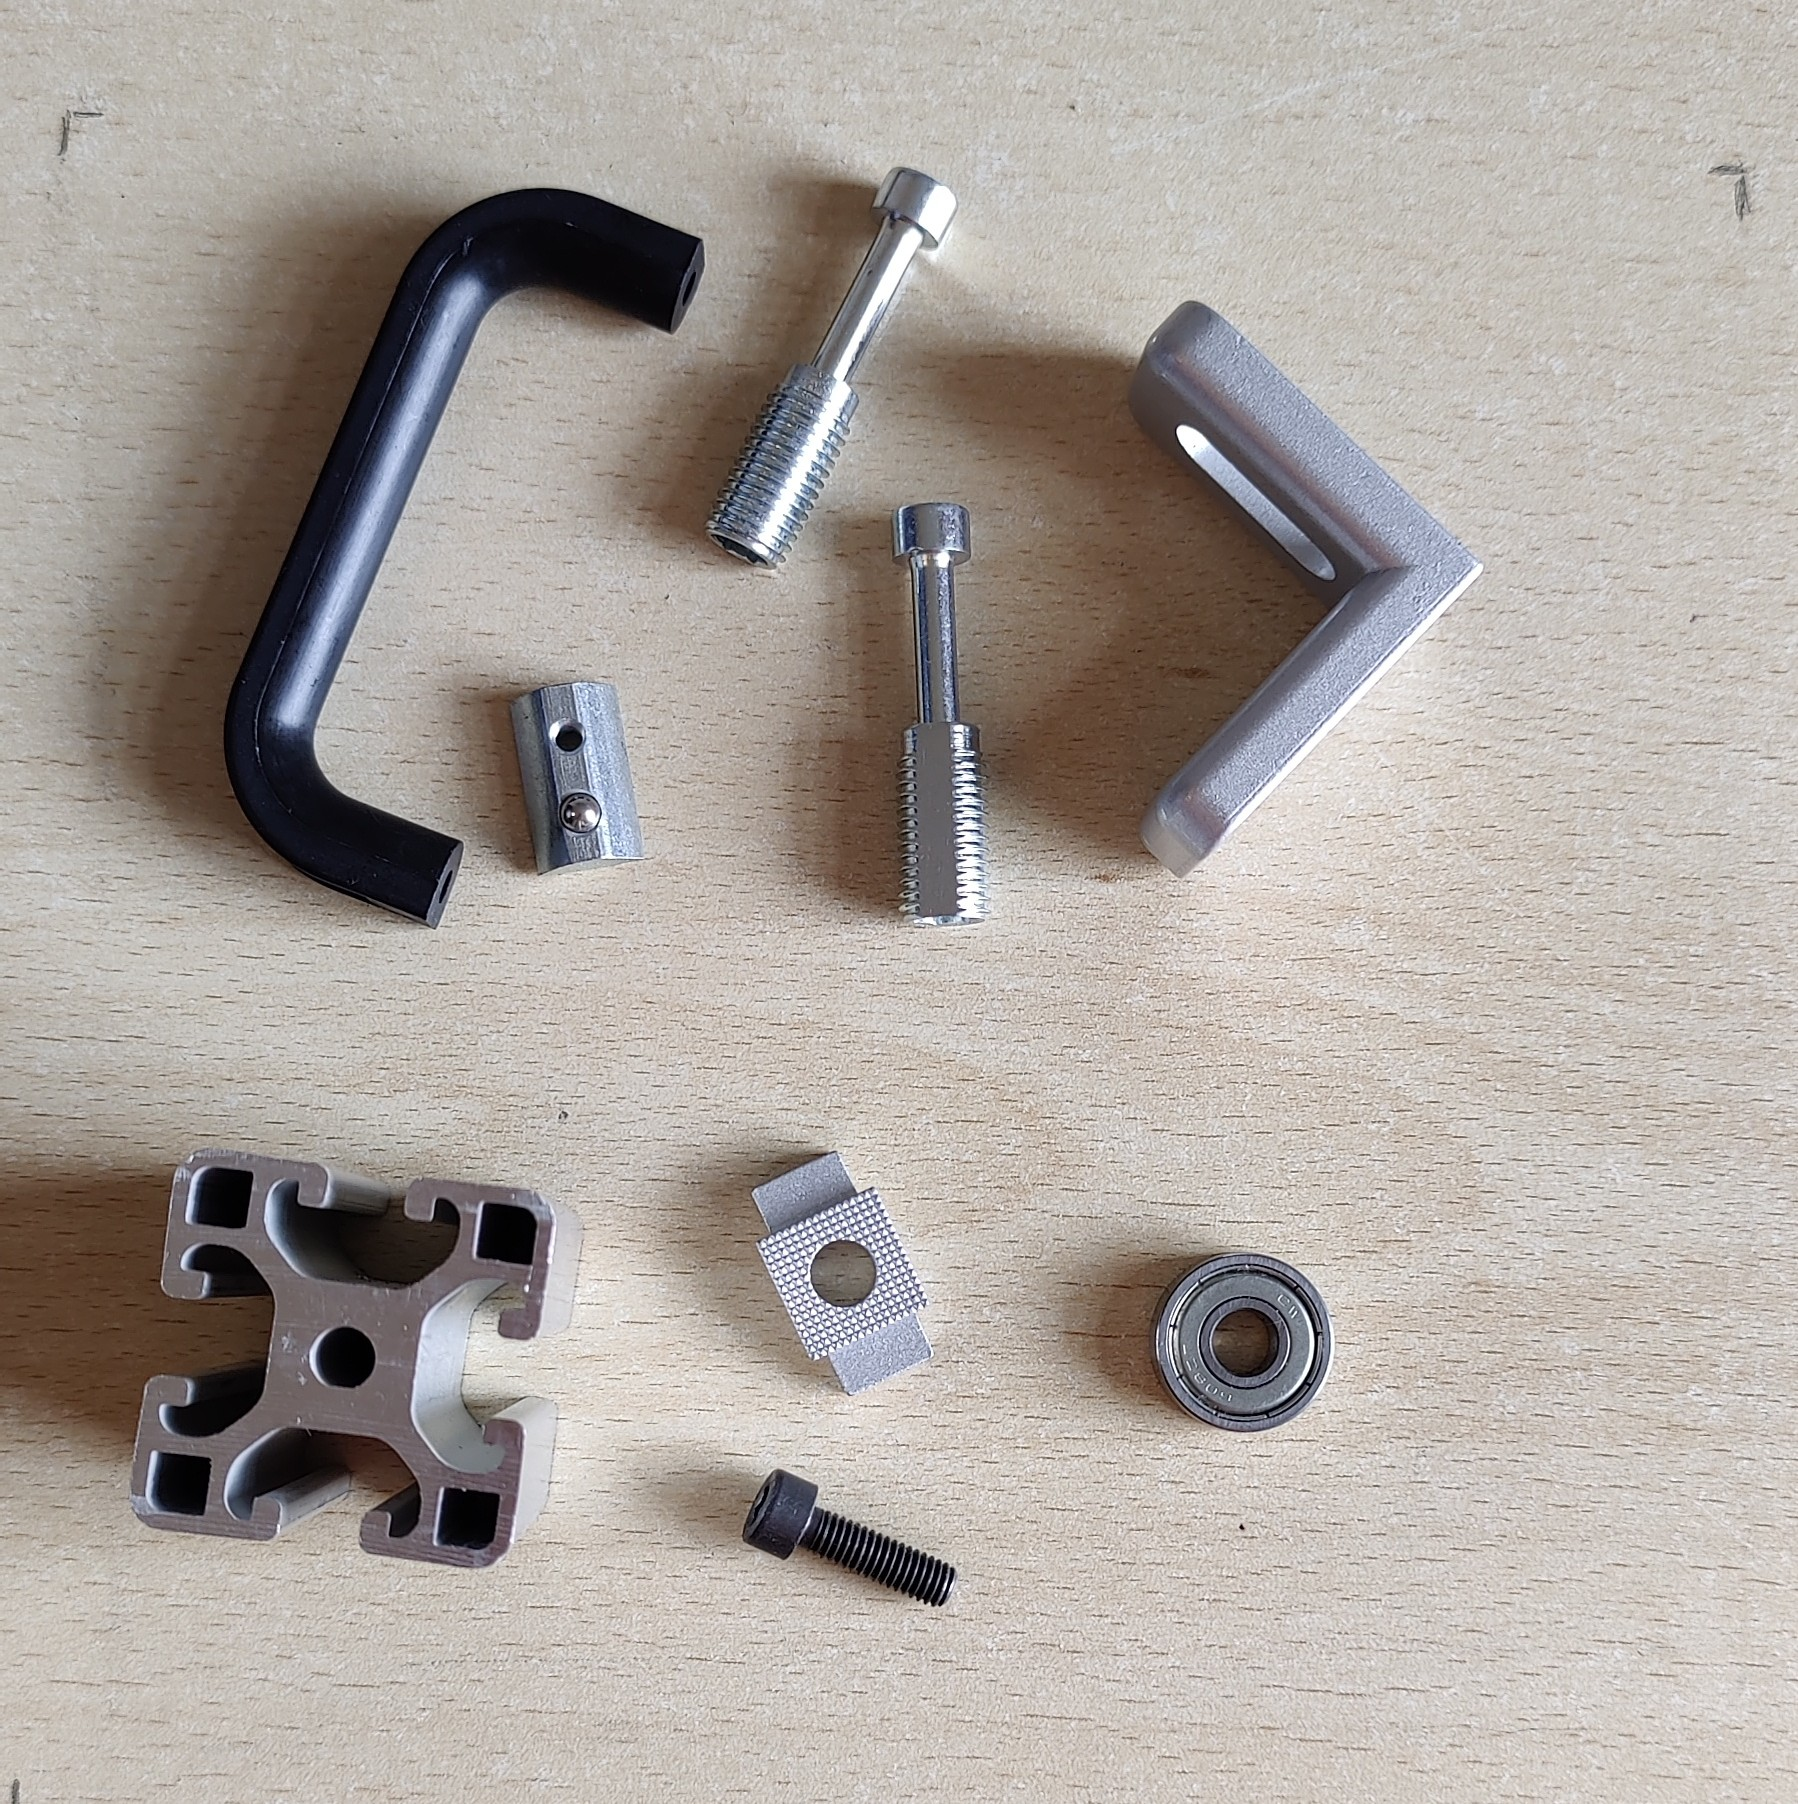Aluminium Extension: (128, 1146, 588, 1570)
Ball Bearing: (1148, 1248, 1337, 1435)
Multiwinkel: (1126, 296, 1487, 882)
Pull Handle: (221, 184, 710, 937)
Shoulder Socket Head Cap Screw: (701, 165, 958, 573), (887, 497, 991, 933)
Socket Head Cap Screw: (739, 1467, 962, 1611)
T Nut Square: (744, 1147, 935, 1399)
T Spring Nut: (504, 678, 647, 881)
